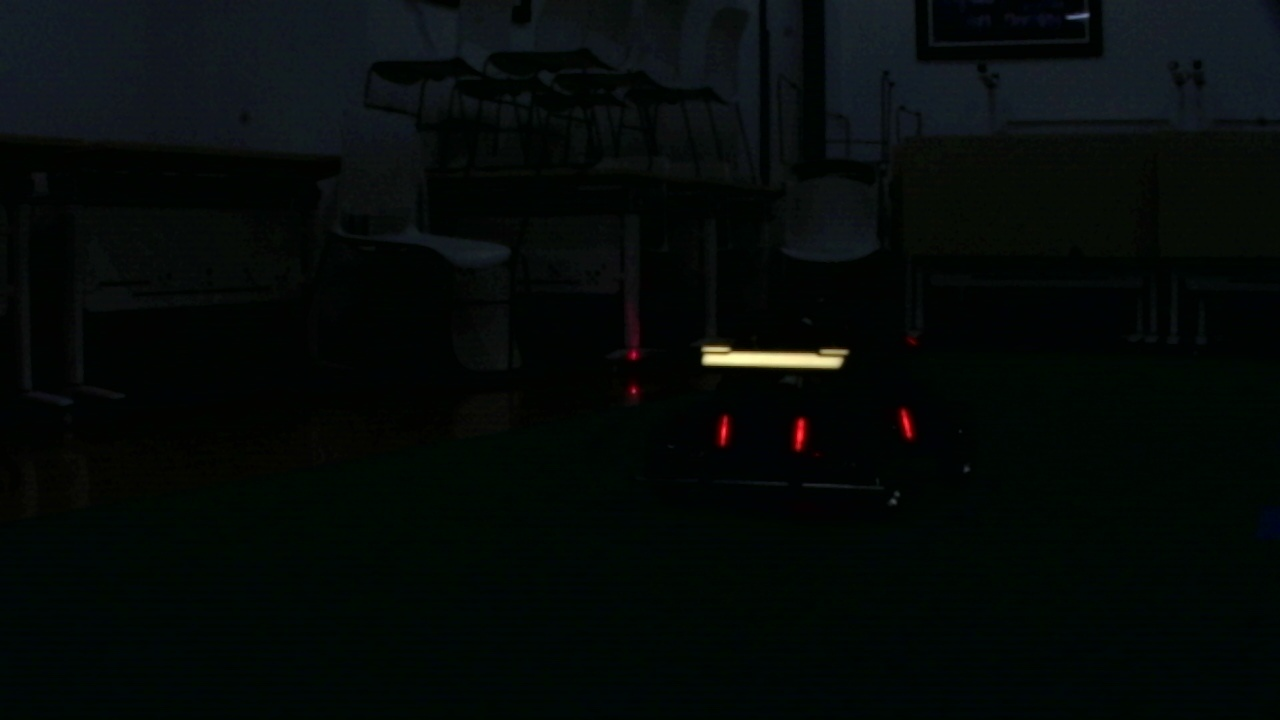lamp: (716, 408, 735, 452), (793, 413, 809, 456), (899, 406, 914, 440)
pair1: (720, 417, 807, 451)
